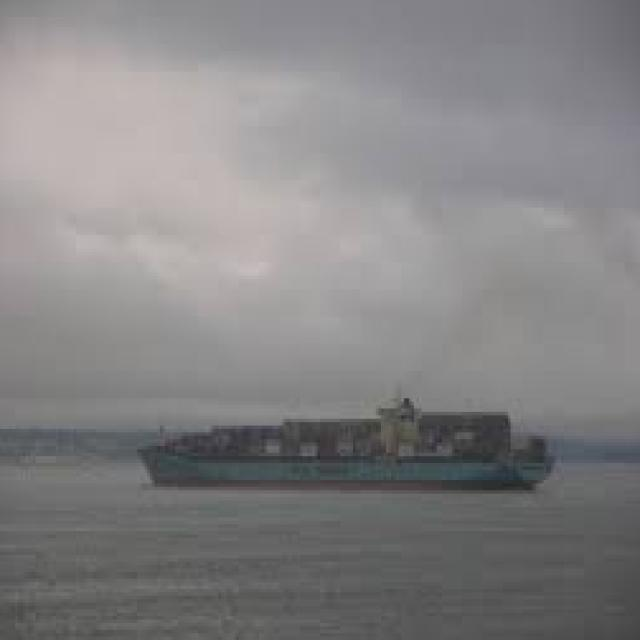cargoship: (144, 384, 554, 488)
